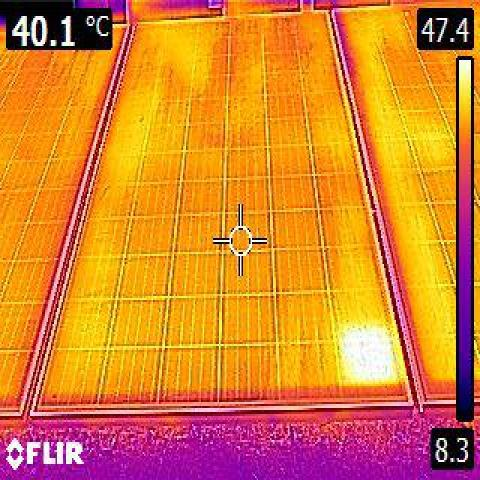fault: (342, 334, 394, 383)
